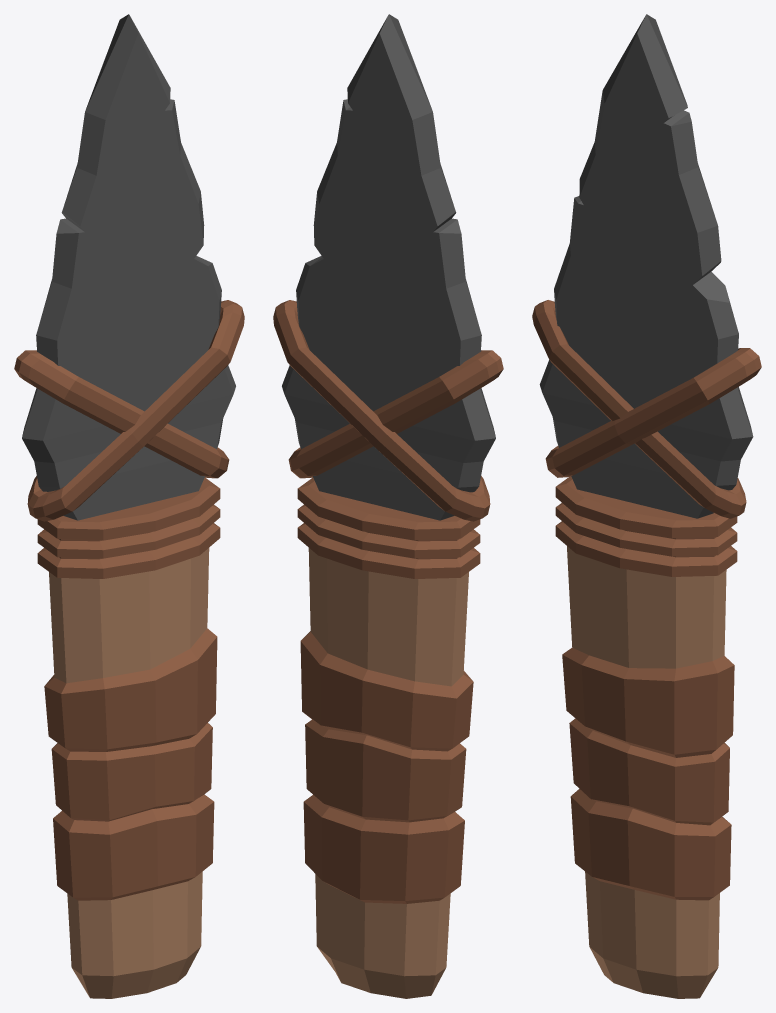
File: Stone Knife.fbx
The picture shows the model from 3 angles, left to right: view 1: azimuth 30°, elevation 25°; view 2: azimuth 150°, elevation 25°; view 3: azimuth 330°, elevation 25°; orthographic projection.
Visible parts, largest first — view 1: Stone Knife; view 2: Stone Knife; view 3: Stone Knife.
Boxes of the visible parts, x1,y1,x2,y2 form: Stone Knife: [14, 14, 244, 998]; Stone Knife: [273, 14, 503, 998]; Stone Knife: [532, 14, 761, 998].
Bounding box in the file's own units: 10.26 × 42.28 × 4.2.
